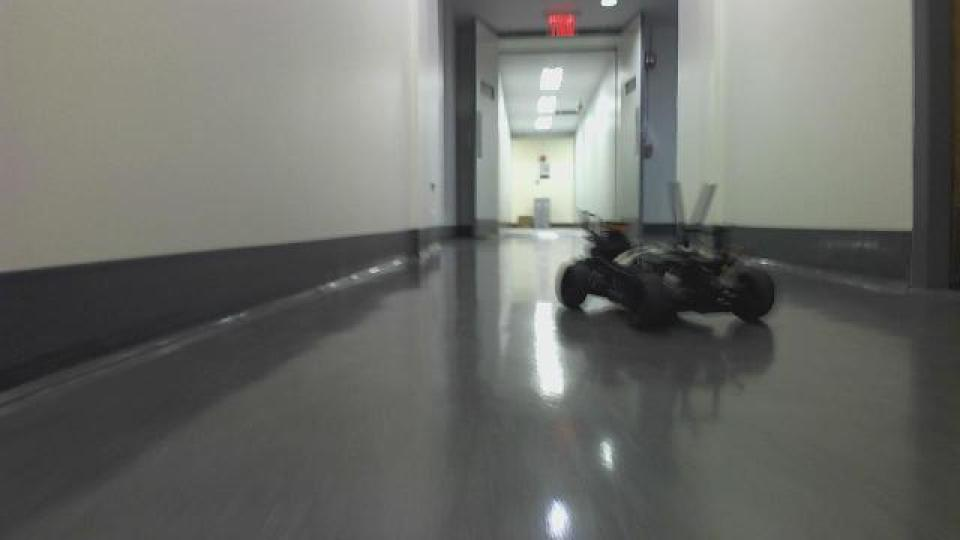car: (551, 202, 777, 336)
